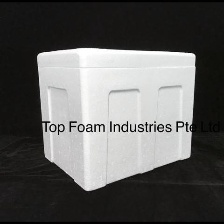foam_box: (29, 41, 201, 195)
